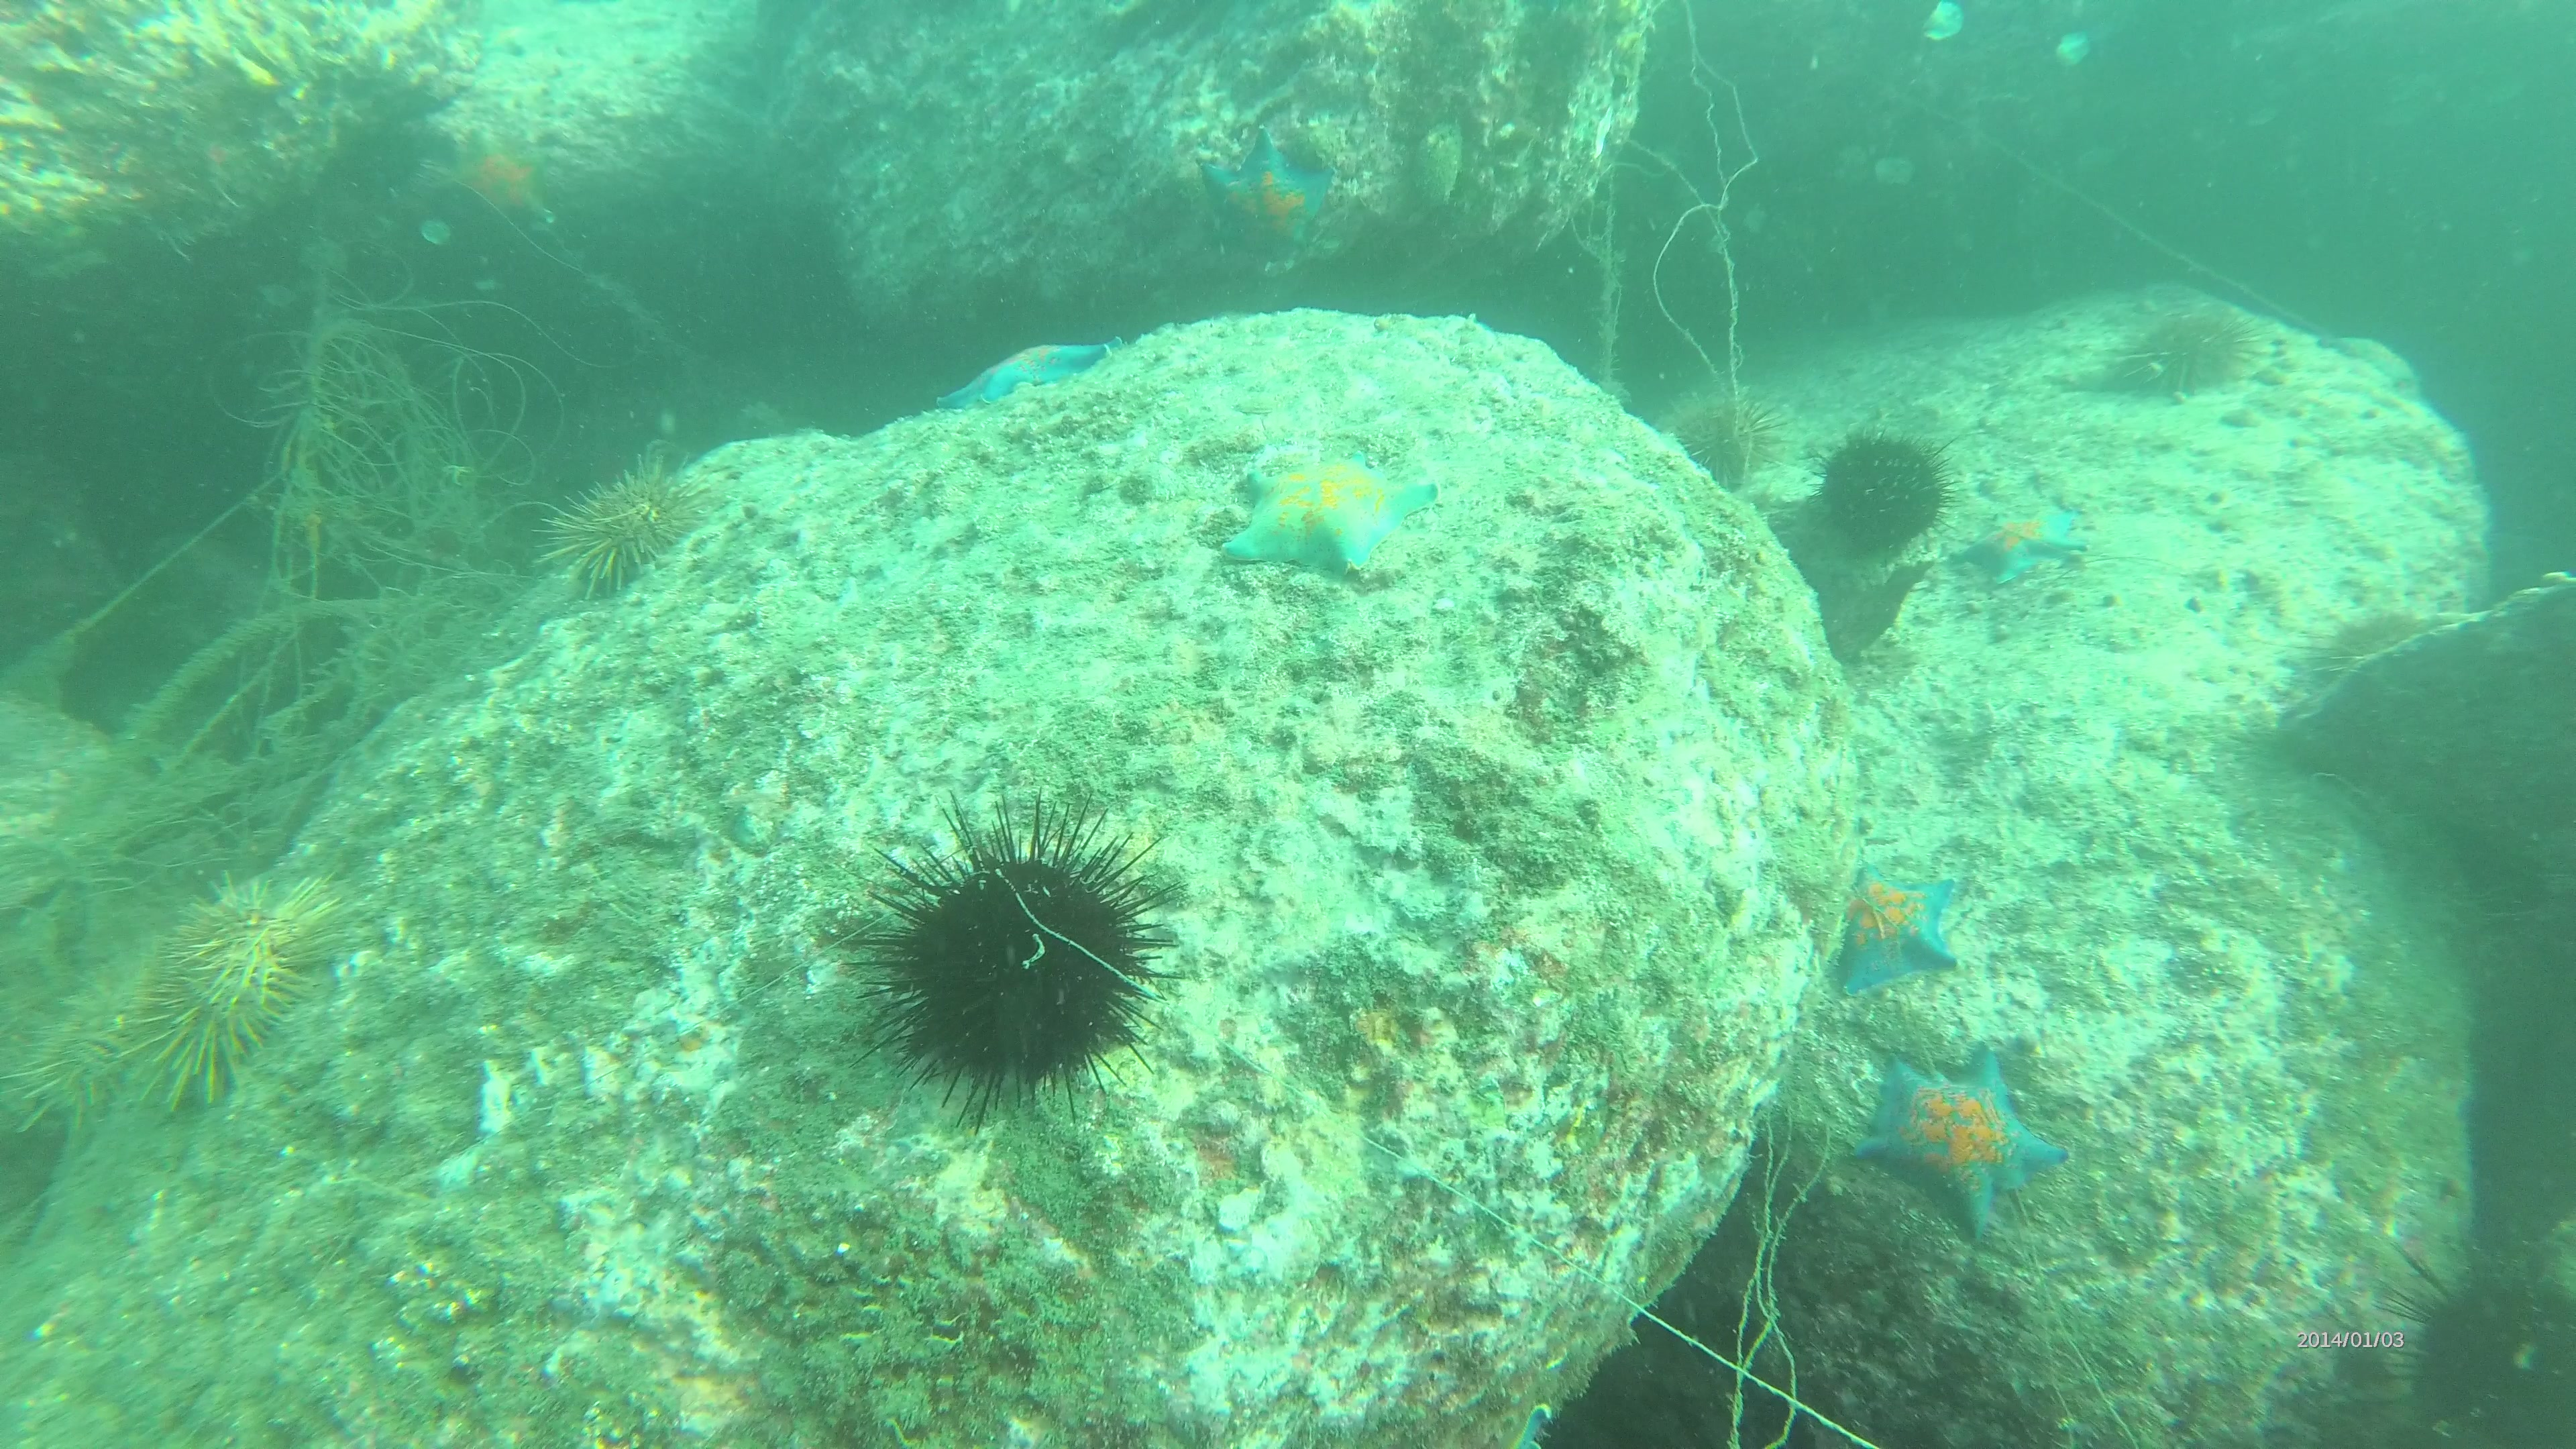echinus: (863, 814, 1182, 1104), (2390, 1249, 2576, 1442), (550, 453, 717, 596), (186, 872, 341, 1019), (142, 950, 285, 1104), (28, 977, 154, 1116), (1821, 430, 1951, 552), (2112, 308, 2259, 400), (1663, 400, 1771, 487)
starfish: (1861, 1046, 2072, 1224), (1231, 458, 1428, 573), (1840, 855, 1966, 1005), (1198, 134, 1330, 265), (419, 127, 557, 246), (938, 331, 1125, 418), (1960, 488, 2089, 591)
